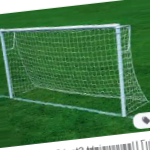goals: (1, 22, 149, 116)
